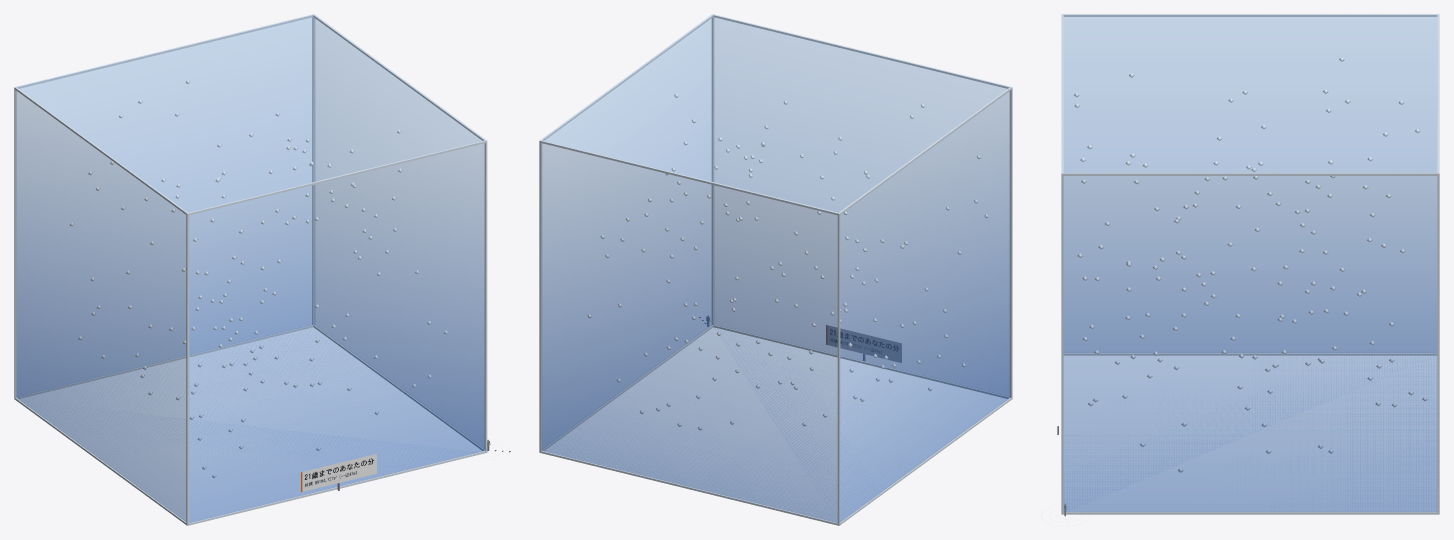
The model's file is cube_life_21.glb.
3 renders of one model, left to right at view 1: azimuth 30°, elevation 25°; view 2: azimuth 150°, elevation 25°; view 3: azimuth 270°, elevation 25°, orthographic. The views are drawn at different scales.
Parts seen in each view (by area): view 1: co2, edge, dots, label; view 2: co2, edge, dots, label; view 3: co2, edge, dots.
Boxes of the visible parts, x1,y1,x2,y2 form: co2: (16,15,484,522); edge: (14,14,487,525); dots: (70,80,447,478); label: (301,454,376,491); co2: (542,15,1010,522); edge: (539,14,1012,525); dots: (587,93,988,430); label: (826,325,901,362); co2: (1063,14,1437,511); edge: (1061,14,1439,514); dots: (1074,57,1427,472).
Size of the model in its own units: 50.84 by 47.14 by 49.94.
Materials: 8 (3 with a texture image).
